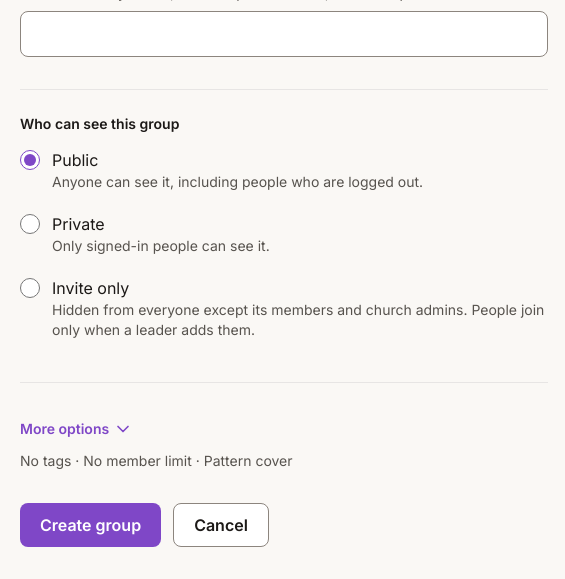
Test case: opens More options and focuses the member limit when it is invalid
(page scrolled)
Click the button "More options" at (77,429), box [20,407,133,451]
(page scrolled)
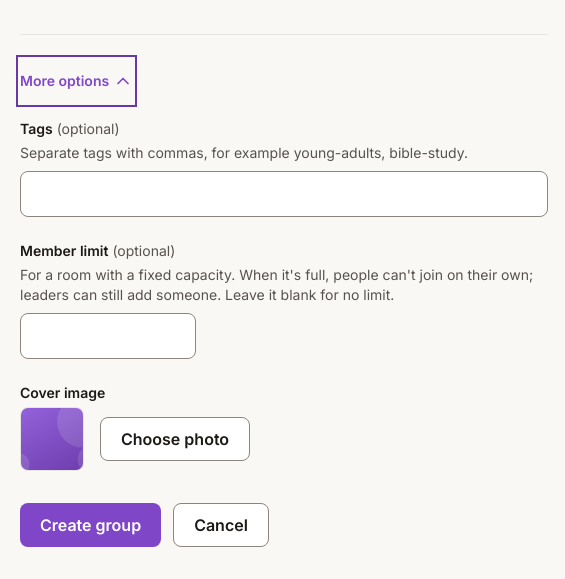
Type "0" into the number field labelled "Member limit (optional)" at (108,336), box [20,313,196,359]
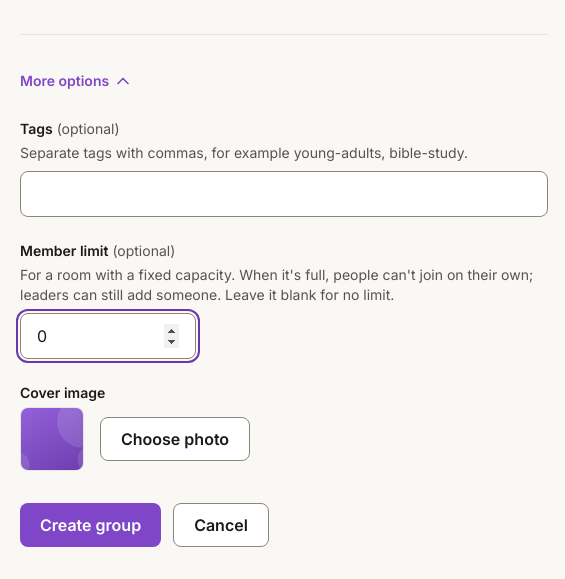
Click the button "More options" at (77,81), box [20,59,133,103]
(page scrolled)
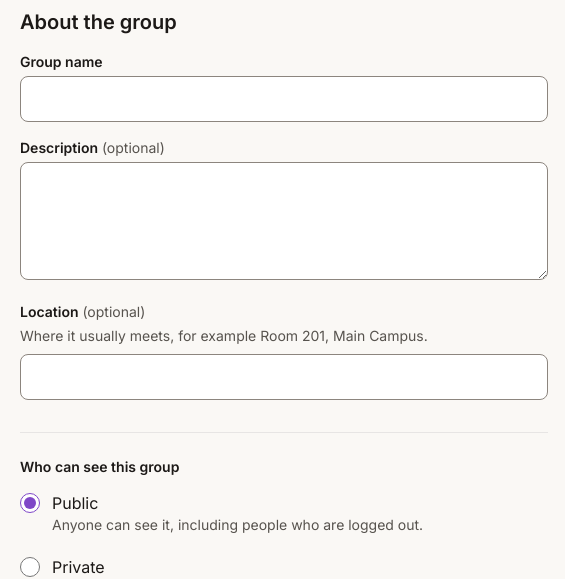
Now the label labelled "Member limit" is gone
Type "Study" into the field labelled "Group name" at (284,99), box [20,76,548,122]
(page scrolled)
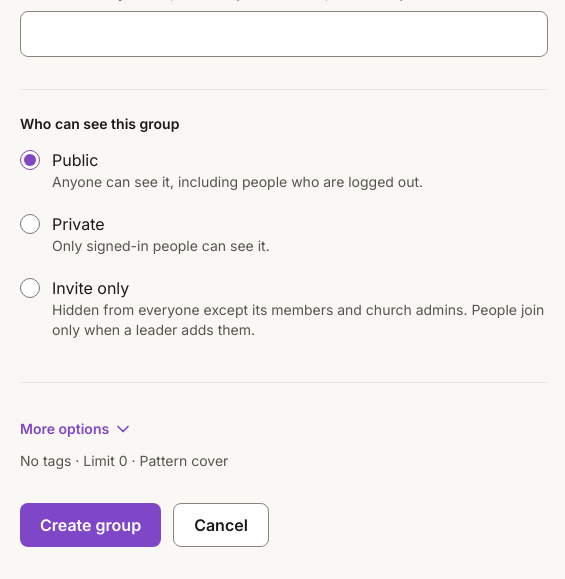
Click the button "Create group" at (91,525), box [20,503,161,547]
(page scrolled)
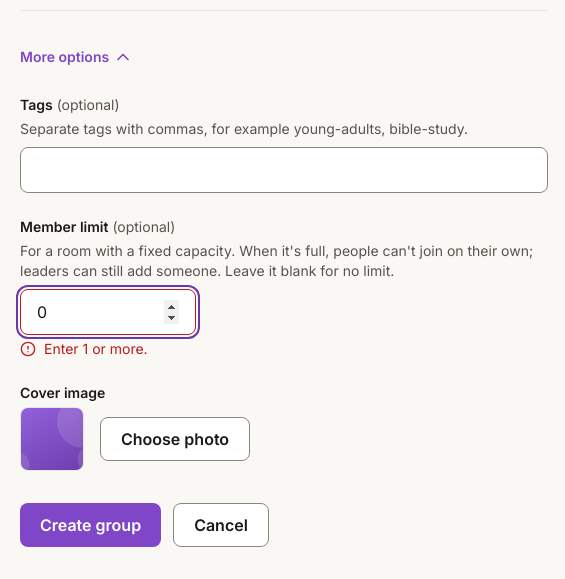
Now the button "More options" is expanded, box [20,35,133,79]
